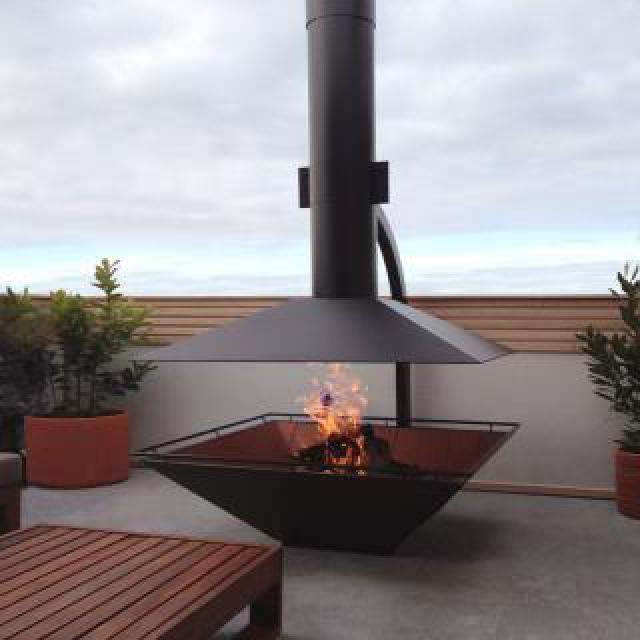Fire: (300, 358, 394, 468)
